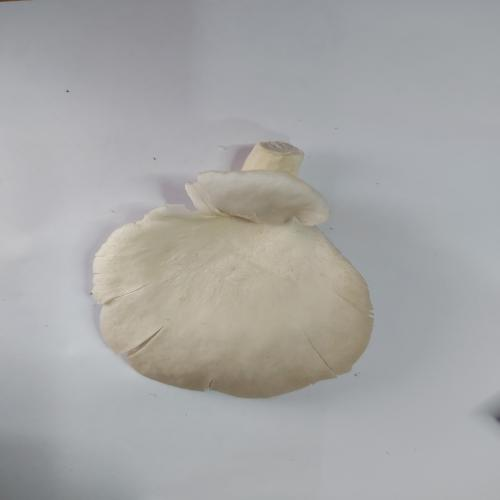Oyster Mushroom: (90, 140, 375, 399)
